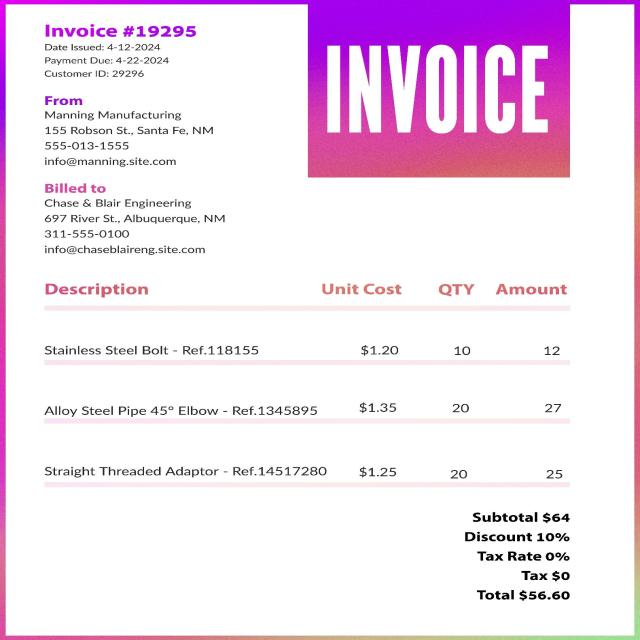paragraph: (319, 32, 562, 152), (37, 92, 224, 171), (39, 183, 232, 259), (457, 508, 579, 604), (36, 24, 203, 83)
table: (32, 278, 576, 490)
